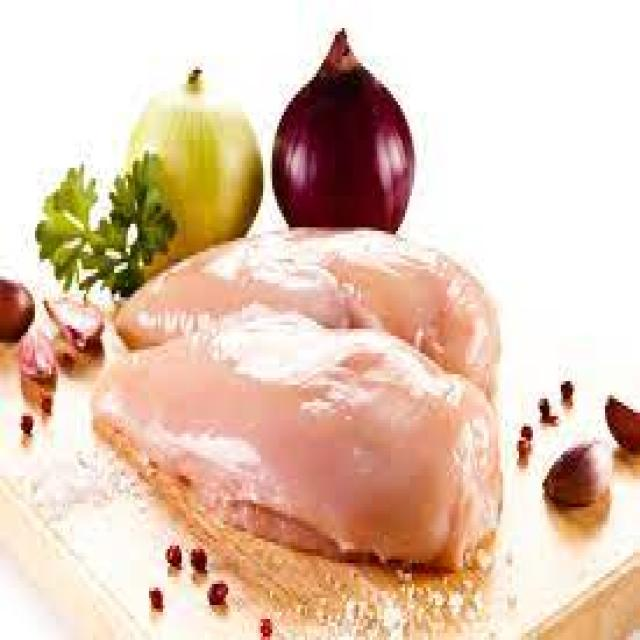chicken: (109, 310, 514, 584), (115, 211, 503, 389)
